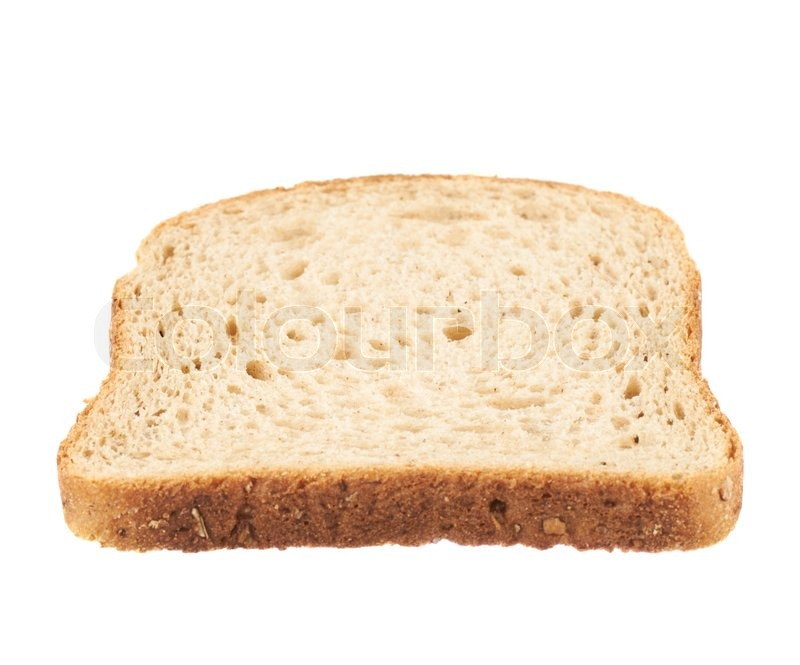slice of bread: (59, 175, 742, 553)
